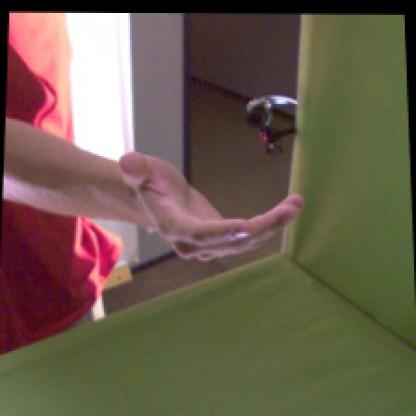Hand: (119, 151, 305, 263)
